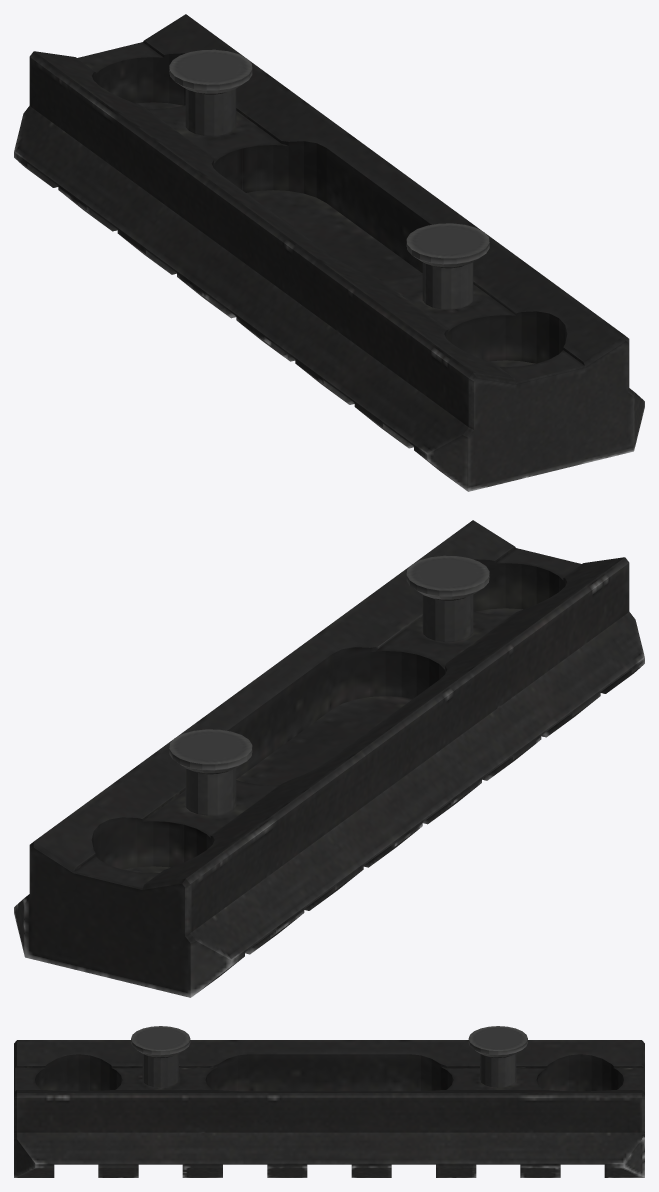
3 views of the same model, one above another, from view 1: azimuth 30°, elevation 25°; view 2: azimuth 150°, elevation 25°; view 3: azimuth 270°, elevation 25° (orthographic). The views are drawn at different scales.
Visible parts, largest first — view 1: TW_67069d3bb29a2cd338033390_PZ_Import; view 2: TW_67069d3bb29a2cd338033390_PZ_Import; view 3: TW_67069d3bb29a2cd338033390_PZ_Import.
Part boxes in pixels (x1,y1,x2,y2): TW_67069d3bb29a2cd338033390_PZ_Import: (14, 14, 644, 491); TW_67069d3bb29a2cd338033390_PZ_Import: (14, 520, 644, 997); TW_67069d3bb29a2cd338033390_PZ_Import: (14, 1026, 644, 1177).
Bounding box in the file's own units: 0.0123 × 0.0433 × 0.00836.
1 material, 1 textured.
